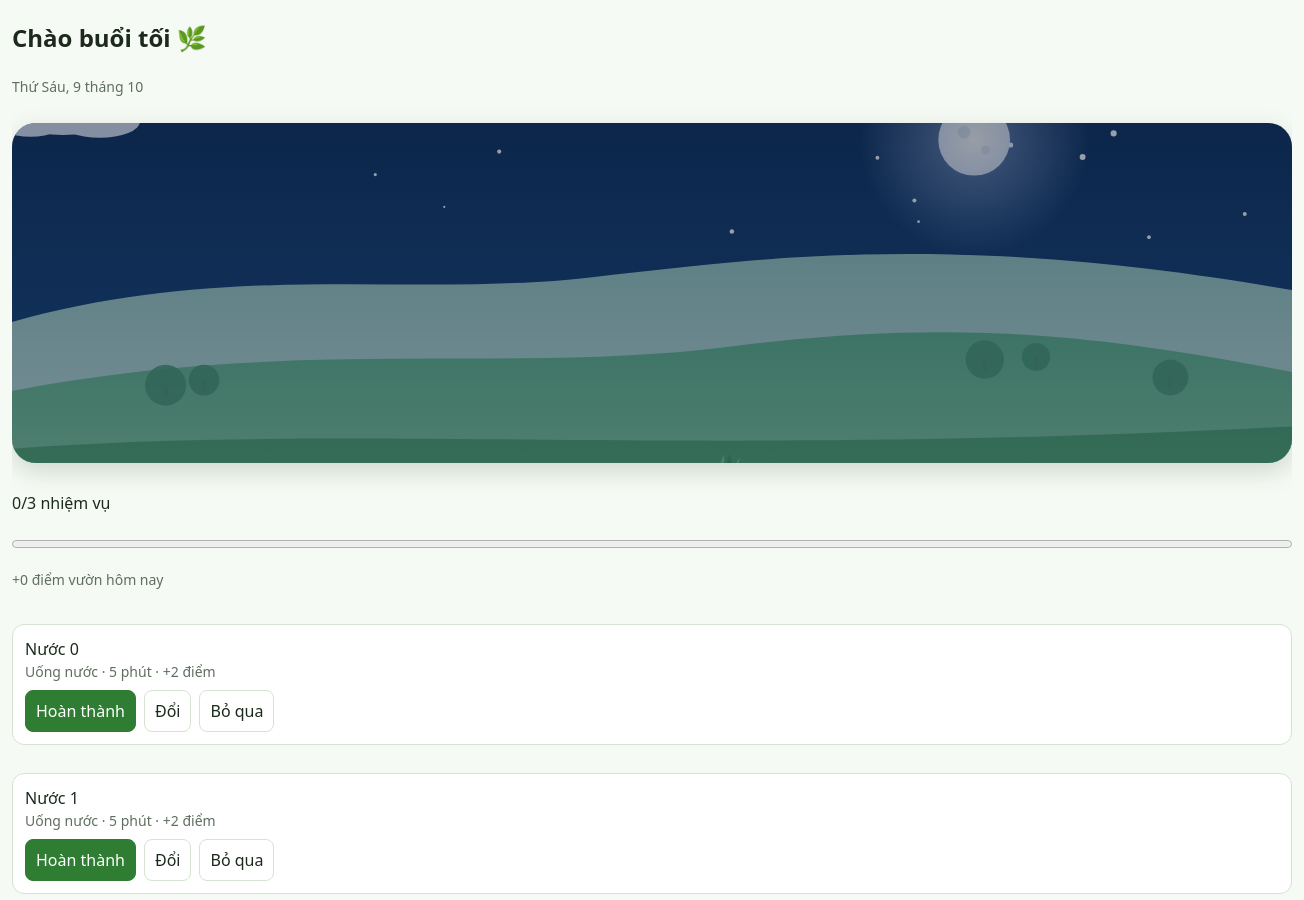
Today › tells the user when there is no other task to swap to
Step 1. Click the button with aria-label "Đổi: Nước 0" → (168, 711), box [144,690,192,732]
(page scrolled)
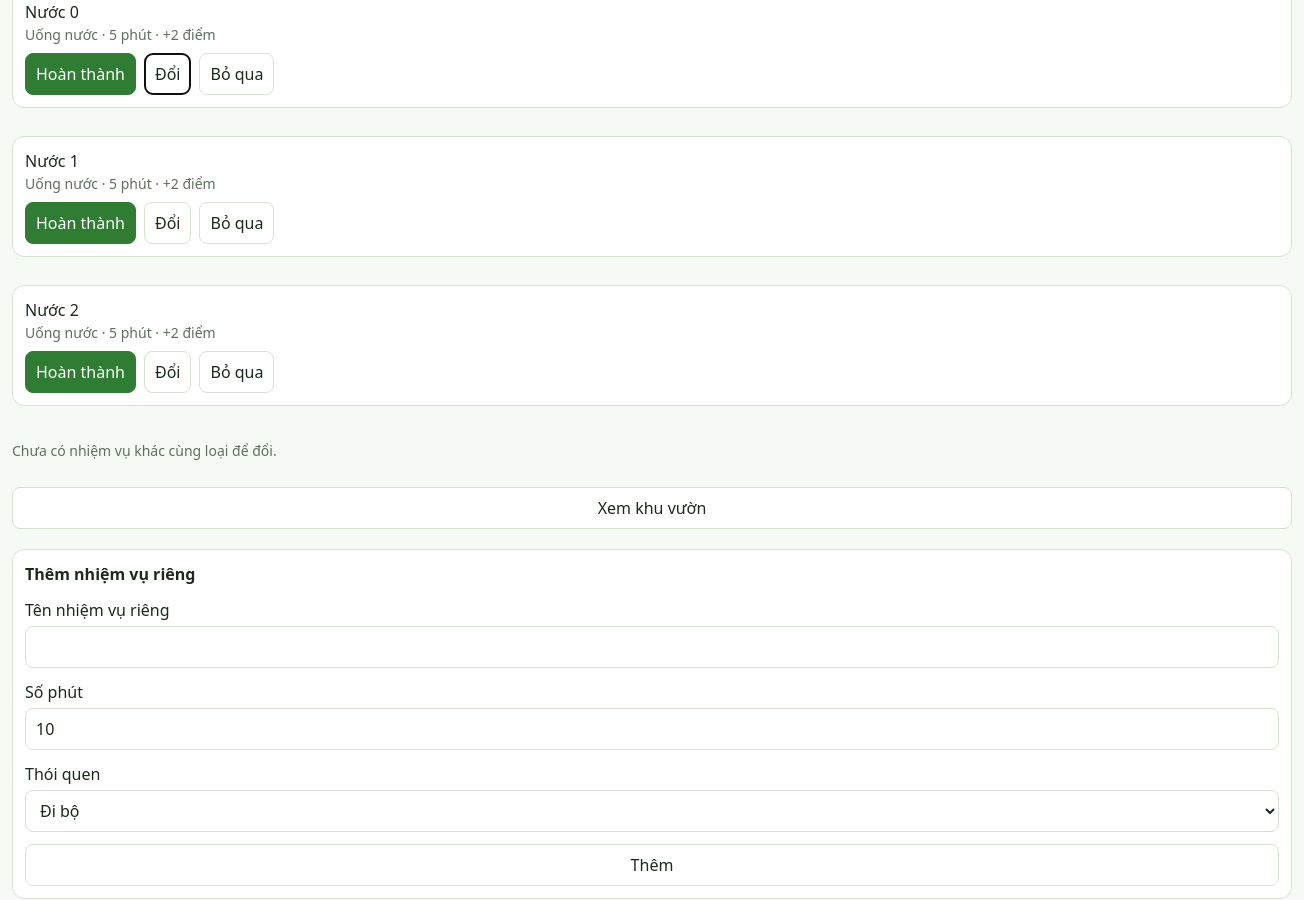
Result: the text "Chưa có nhiệm vụ khác cùng loại để đổi." is shown at [12,441,277,460]
